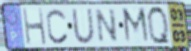C: (46, 7, 70, 46)
H: (21, 7, 48, 47)
M: (121, 6, 152, 45)
N: (95, 8, 119, 45)
Q: (145, 4, 173, 47)
U: (70, 8, 97, 46)
